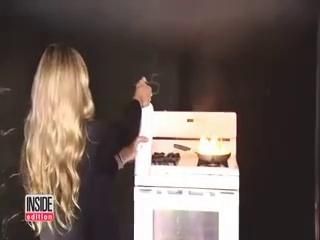Fire: (195, 130, 229, 155)
